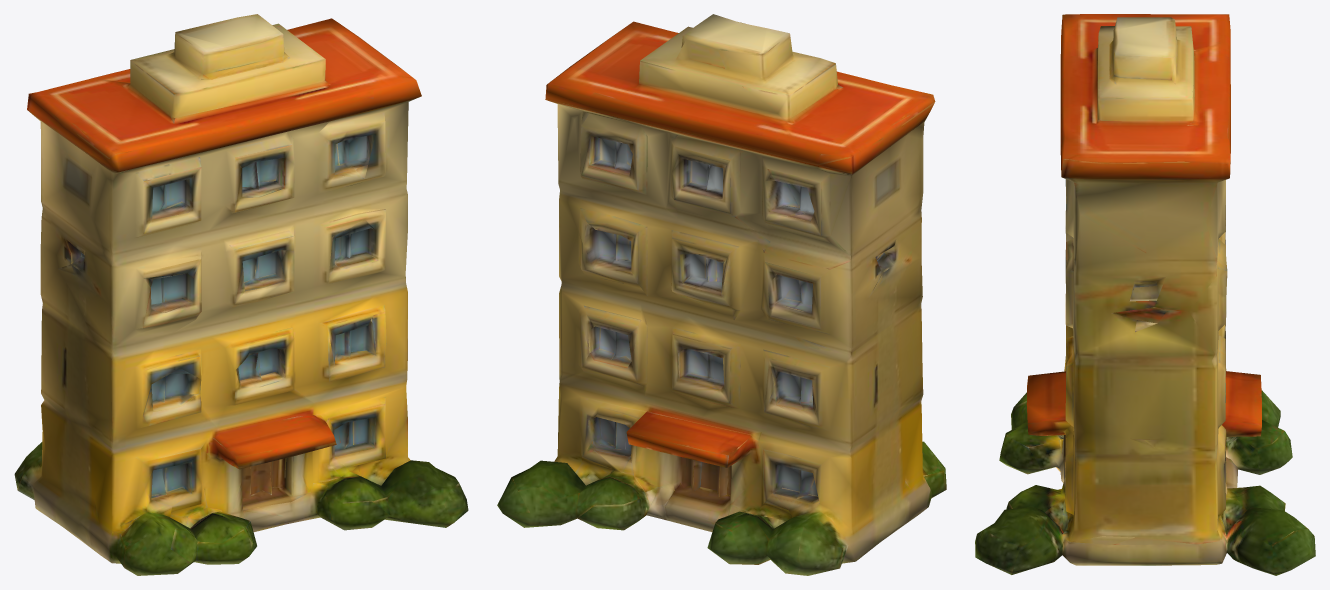
File: building tall.fbx
The picture shows the model from 3 angles, left to right: view 1: azimuth 30°, elevation 25°; view 2: azimuth 150°, elevation 25°; view 3: azimuth 270°, elevation 25°; orthographic projection.
Visible parts, largest first — view 1: building tall; view 2: building tall; view 3: building tall.
Part boxes in pixels (x1,y1,x2,y2): building tall: [14, 14, 468, 575]; building tall: [497, 14, 946, 575]; building tall: [975, 14, 1315, 575].
Size of the model in its own units: 303 by 409 by 275.
Materials: 1 (1 with a texture image).
